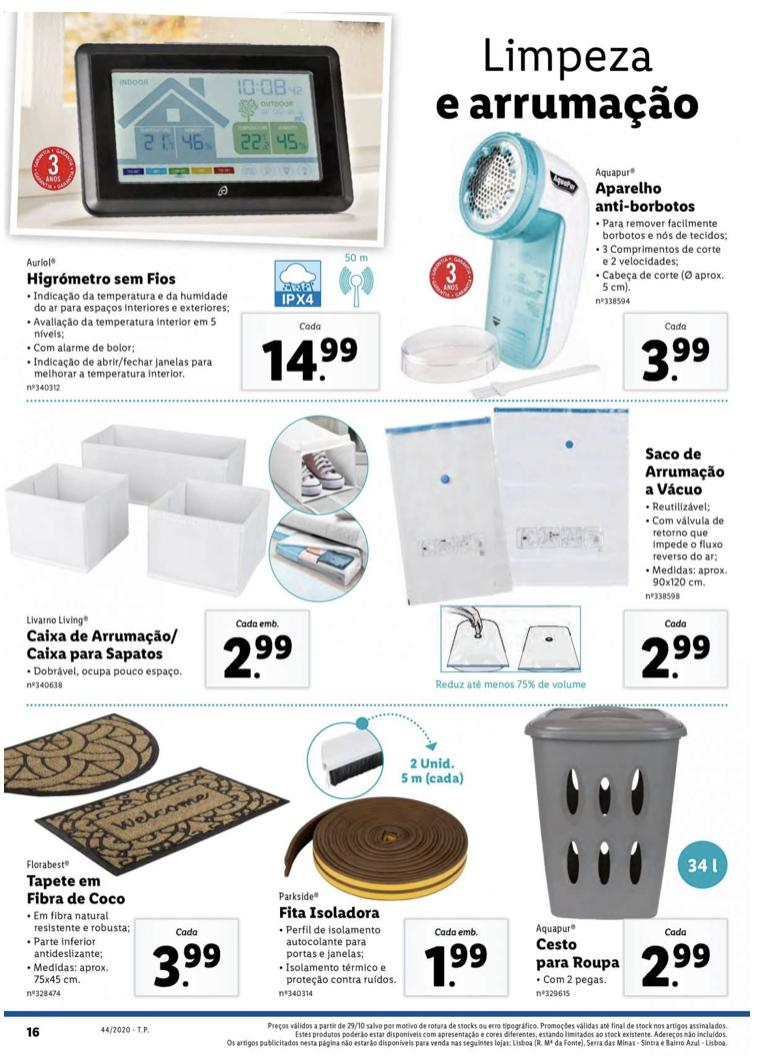name: (21, 623, 181, 665), (642, 441, 731, 499), (589, 175, 702, 212), (26, 873, 130, 909), (526, 937, 623, 973), (27, 269, 183, 290), (275, 902, 384, 927)
price: (255, 334, 364, 386), (217, 627, 300, 682), (634, 332, 712, 387), (638, 942, 716, 996), (638, 632, 714, 682), (150, 941, 222, 991), (418, 942, 491, 990)
product: (22, 34, 380, 395), (10, 412, 381, 696), (391, 408, 748, 696), (392, 127, 750, 386), (268, 717, 518, 1007), (12, 716, 258, 1004), (514, 705, 743, 1005)
